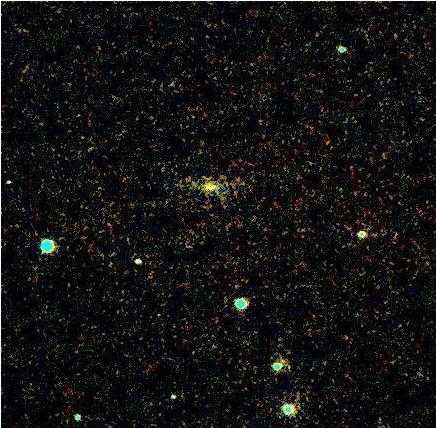star: (199, 170, 229, 200)
